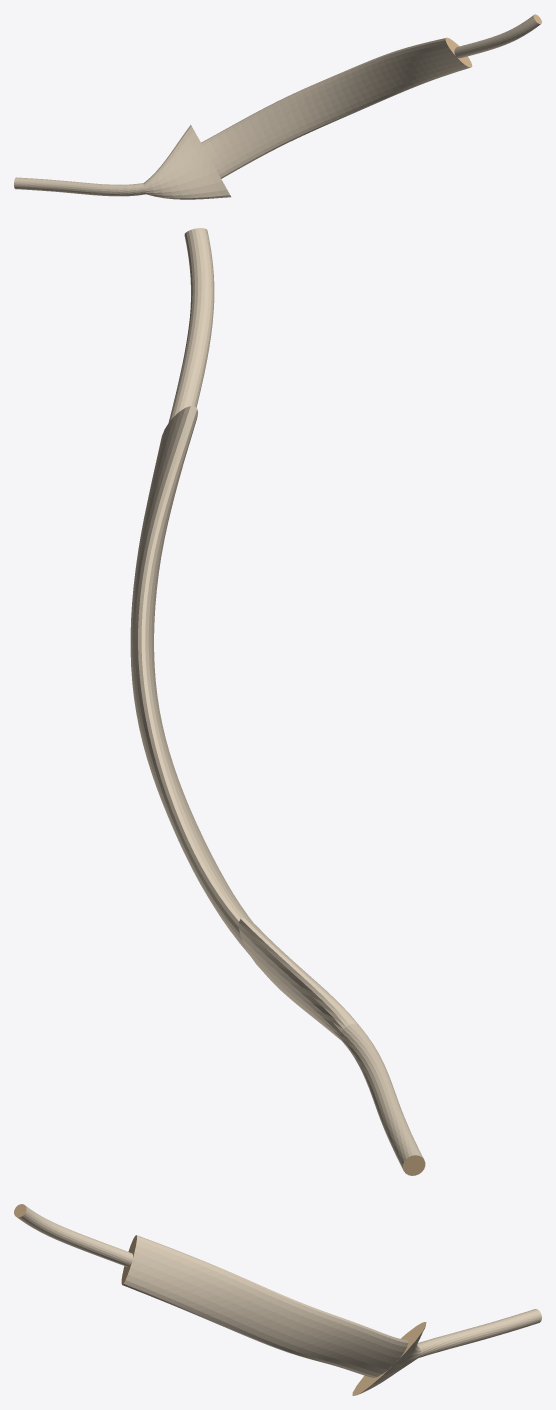
File: Sheet.dae
3 views of the same model, one above another, from view 1: azimuth 30°, elevation 25°; view 2: azimuth 150°, elevation 25°; view 3: azimuth 270°, elevation 25° (orthographic). The views are drawn at different scales.
Parts seen in each view (by area): view 1: Shape_IndexedTriangleStripSet_008; view 2: Shape_IndexedTriangleStripSet_008; view 3: Shape_IndexedTriangleStripSet_008.
Boxes of the visible parts, x1,y1,x2,y2 form: Shape_IndexedTriangleStripSet_008: [14, 14, 541, 199]; Shape_IndexedTriangleStripSet_008: [130, 228, 425, 1175]; Shape_IndexedTriangleStripSet_008: [14, 1204, 541, 1395].
Size of the model in its own units: 15.89 by 17.96 by 11.61.
